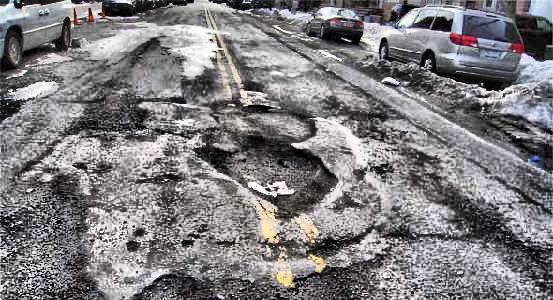pothole: (199, 135, 341, 218), (248, 100, 272, 114)
